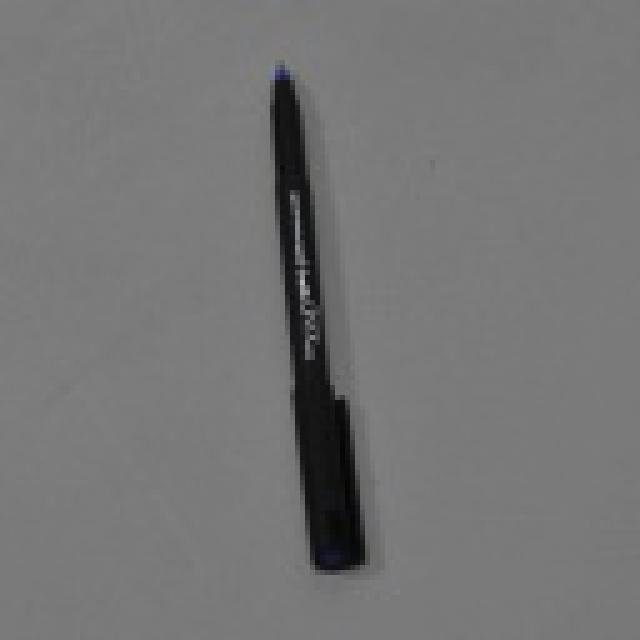pen: (264, 48, 376, 586)
